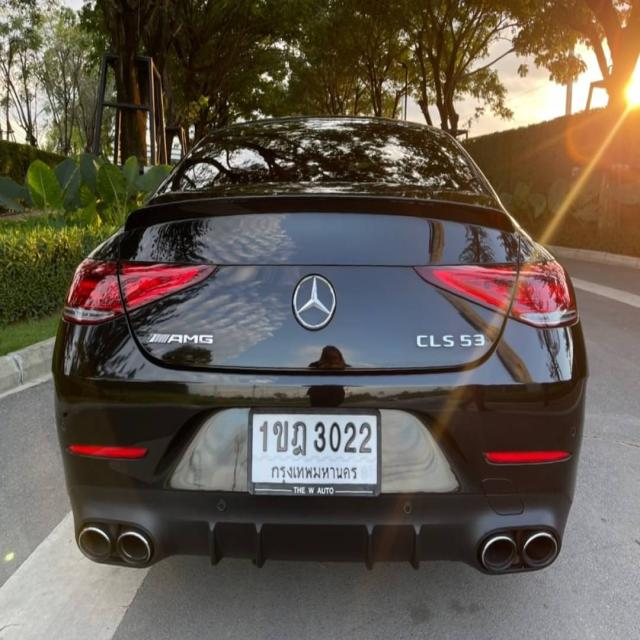license_plate: (250, 403, 380, 498)
